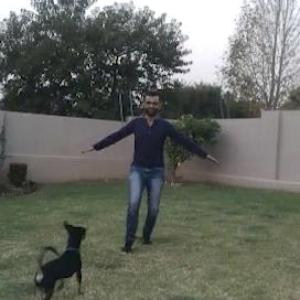land: (77, 59, 237, 274)
